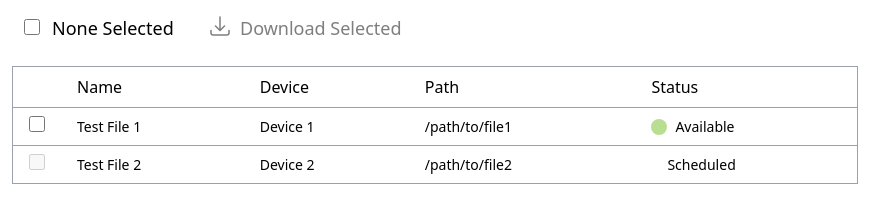
Test: FileTable › updates selection count when deselecting items
Select first file by clicking the row
What coordinates should you click on to do the following:
click the text "Test File 1"
I would click on:
 (435, 126)
Its box is [12, 108, 858, 146].
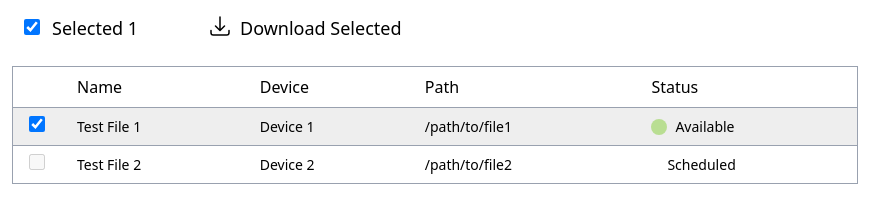
Deselect the file by clicking the row again
What coordinates should you click on to do the following:
click the text "Test File 1"
I would click on:
 (435, 126)
Its box is [12, 108, 858, 146].
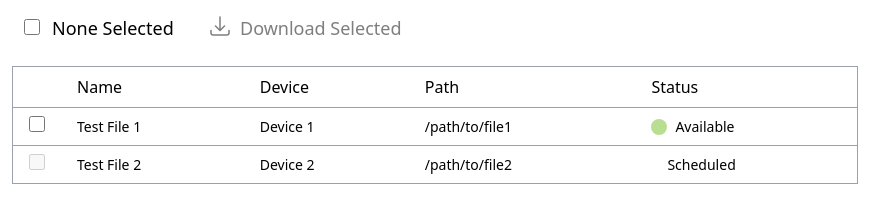
Expected: the text "None Selected" is shown, [52, 16, 174, 40]
